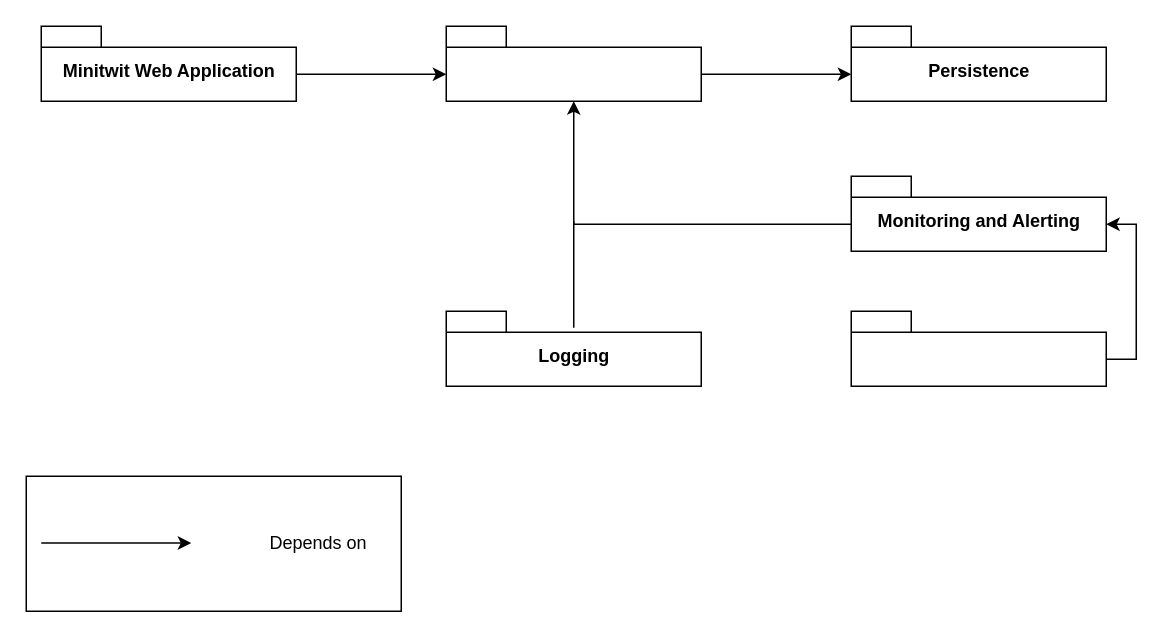
The diagram is 1175 pixels wide and 638 high, and some of its shapes have lost their labels. The shapes that lost their labels are listed below. From the top down, each one's box as (x1, y1, x2, y2) in pixels, then its label:
(445, 25, 701, 101): Minitwit Backend
(850, 310, 1106, 386): Analytics Visualization
